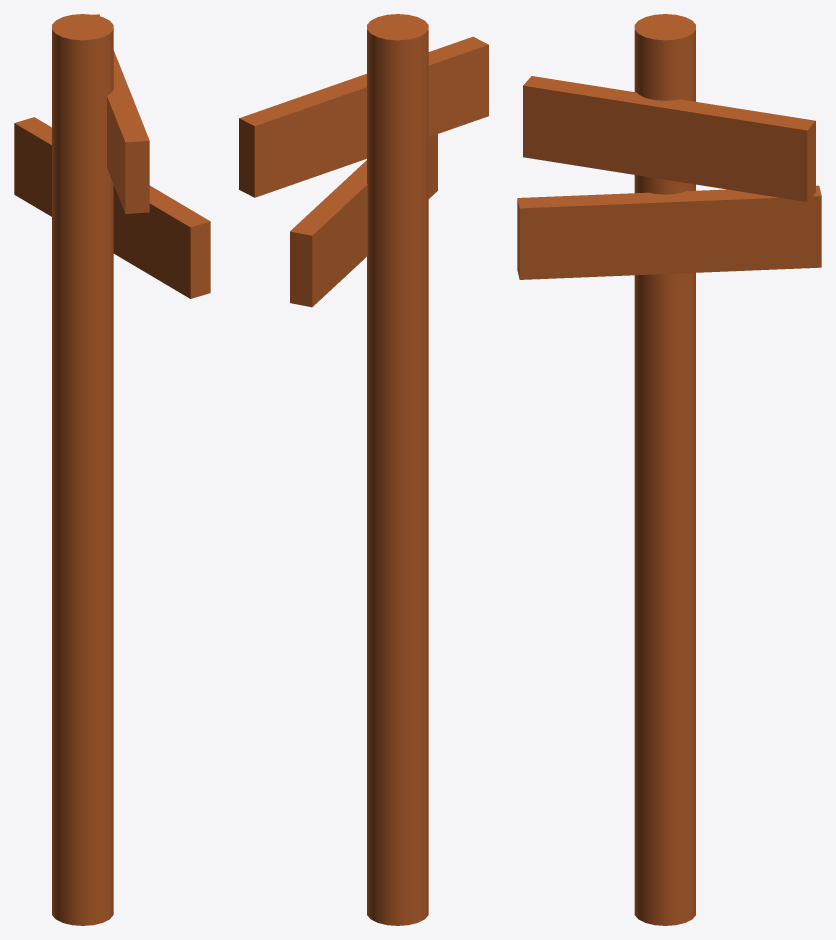
Rendered from WoodSign.fbx.
The picture shows the model from 3 angles, left to right: view 1: azimuth 30°, elevation 25°; view 2: azimuth 150°, elevation 25°; view 3: azimuth 270°, elevation 25°; orthographic projection.
Visible parts, largest first — view 1: Cylinder001, Box063, Box062; view 2: Cylinder001, Box062, Box063; view 3: Cylinder001, Box063, Box062.
Boxes of the visible parts, bbox=[...] form: Cylinder001: bbox=[52, 14, 113, 925]; Box063: bbox=[14, 117, 210, 298]; Box062: bbox=[94, 14, 149, 213]; Cylinder001: bbox=[367, 14, 428, 925]; Box062: bbox=[239, 36, 488, 197]; Box063: bbox=[290, 134, 437, 307]; Cylinder001: bbox=[634, 14, 695, 925]; Box063: bbox=[517, 185, 821, 279]; Box062: bbox=[523, 76, 815, 201].
Size of the model in its own units: 5.75 by 42.38 by 13.2.
